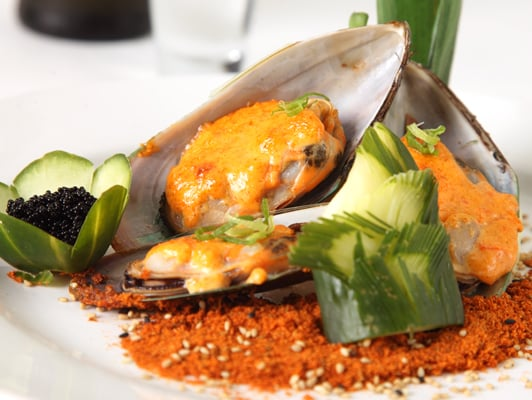pizza: (151, 1, 255, 76)
sandwich: (68, 264, 312, 314)
